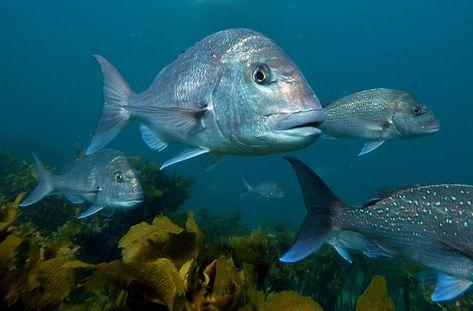fish: (84, 26, 326, 172), (278, 155, 472, 302), (18, 147, 144, 219), (317, 86, 440, 156), (239, 176, 284, 200)
